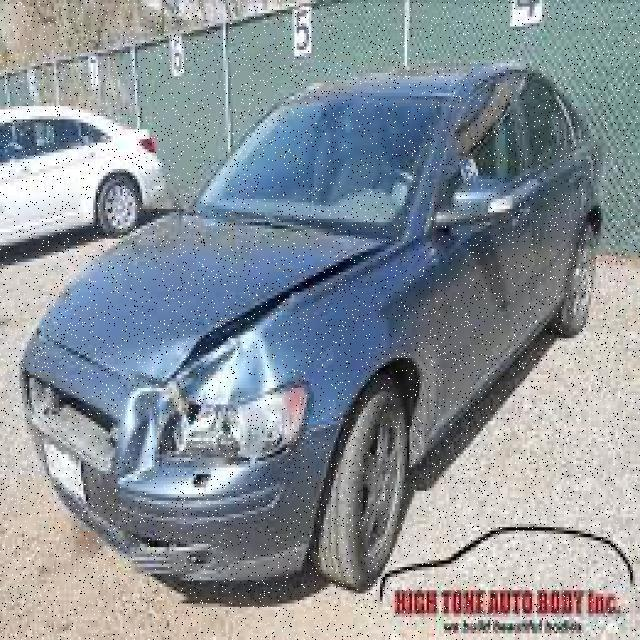fender-dent: (198, 300, 444, 460)
